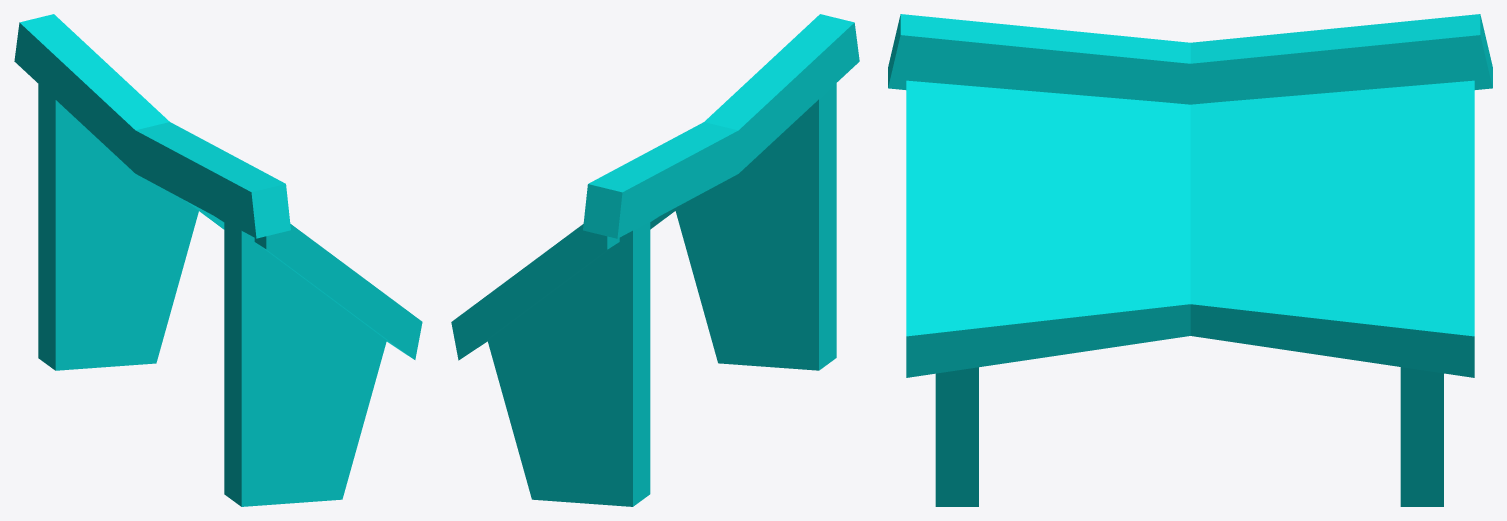
File: SM_Bld_Roof_Thatch_Preset_07_Collision.fbx
3 renders of one model, left to right at view 1: azimuth 30°, elevation 25°; view 2: azimuth 150°, elevation 25°; view 3: azimuth 270°, elevation 25°, orthographic. The views are drawn at different scales.
Visible parts, largest first — view 1: SM_Bld_Roof_Thatch_Preset_07_Collision; view 2: SM_Bld_Roof_Thatch_Preset_07_Collision; view 3: SM_Bld_Roof_Thatch_Preset_07_Collision.
Part boxes in pixels (x1,y1,x2,y2): SM_Bld_Roof_Thatch_Preset_07_Collision: (14,14,422,506); SM_Bld_Roof_Thatch_Preset_07_Collision: (451,14,859,506); SM_Bld_Roof_Thatch_Preset_07_Collision: (888,14,1492,506).
Size of the model in its own units: 267 by 505 by 646.
